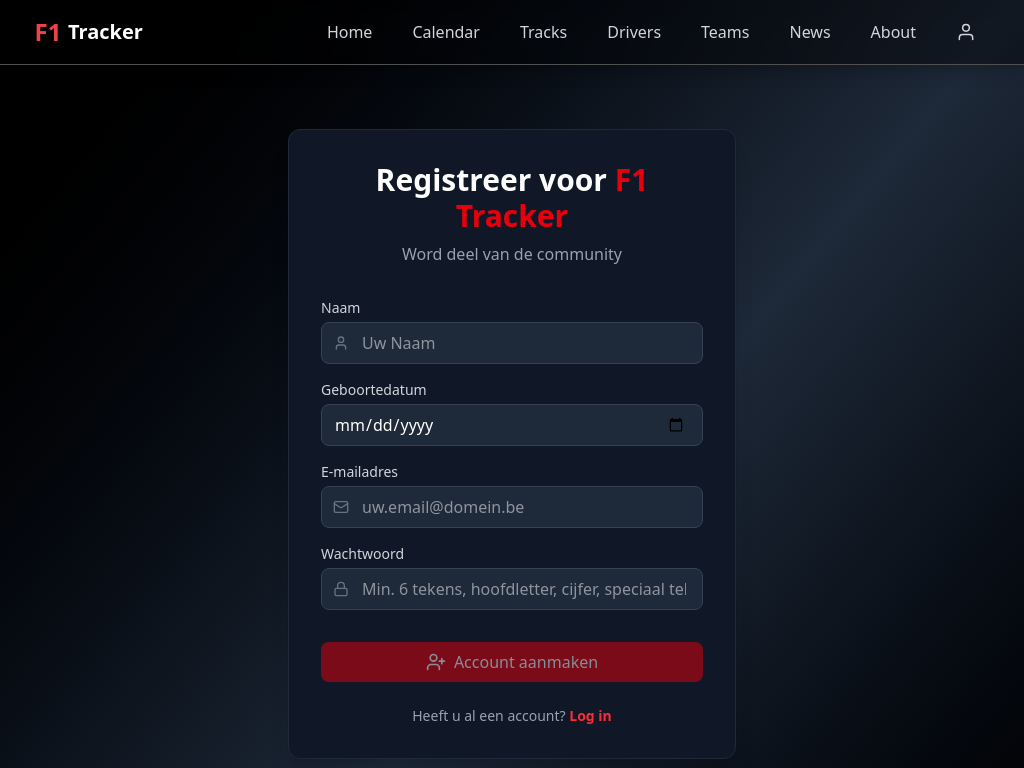
Test: Registratie Test › zou de verzendknop uitgeschakeld moeten houden bij een zwak wachtwoord
Type "Brihan" into the field with test id "user_input".
click(512, 343); type("Brihan")  # box top-left (321, 322), bottom-right (703, 364)
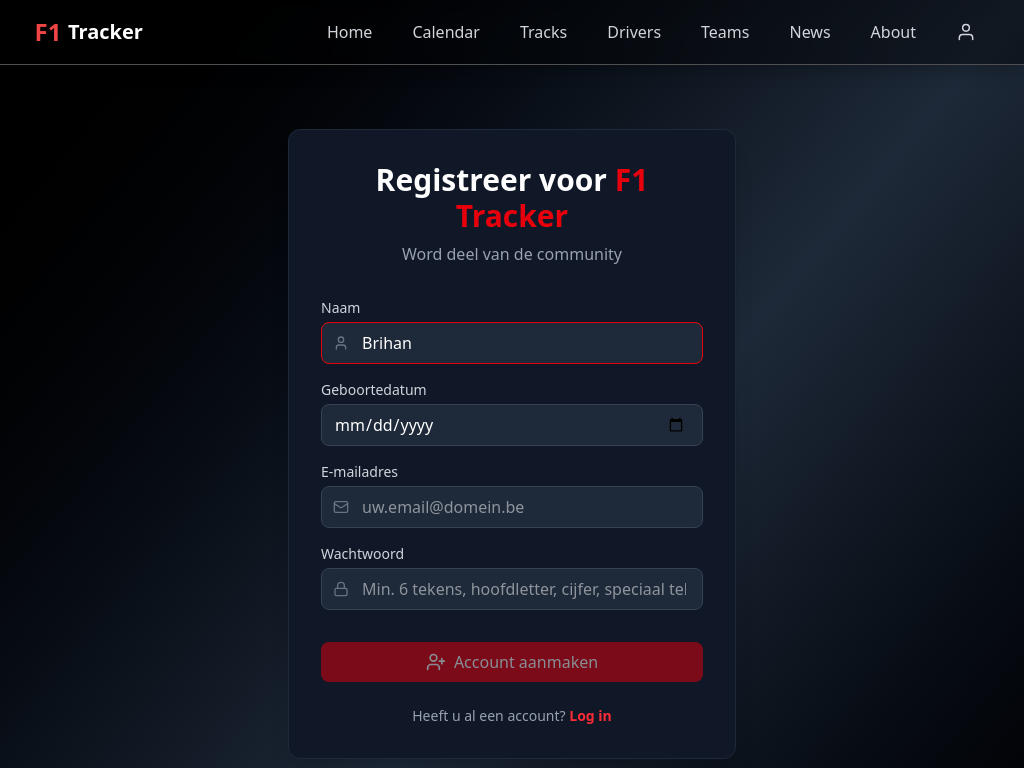
Type "pipo@f1site.com" into the field with test id "email_input".
click(512, 507); type("pipo@f1site.com")  # box top-left (321, 486), bottom-right (703, 528)
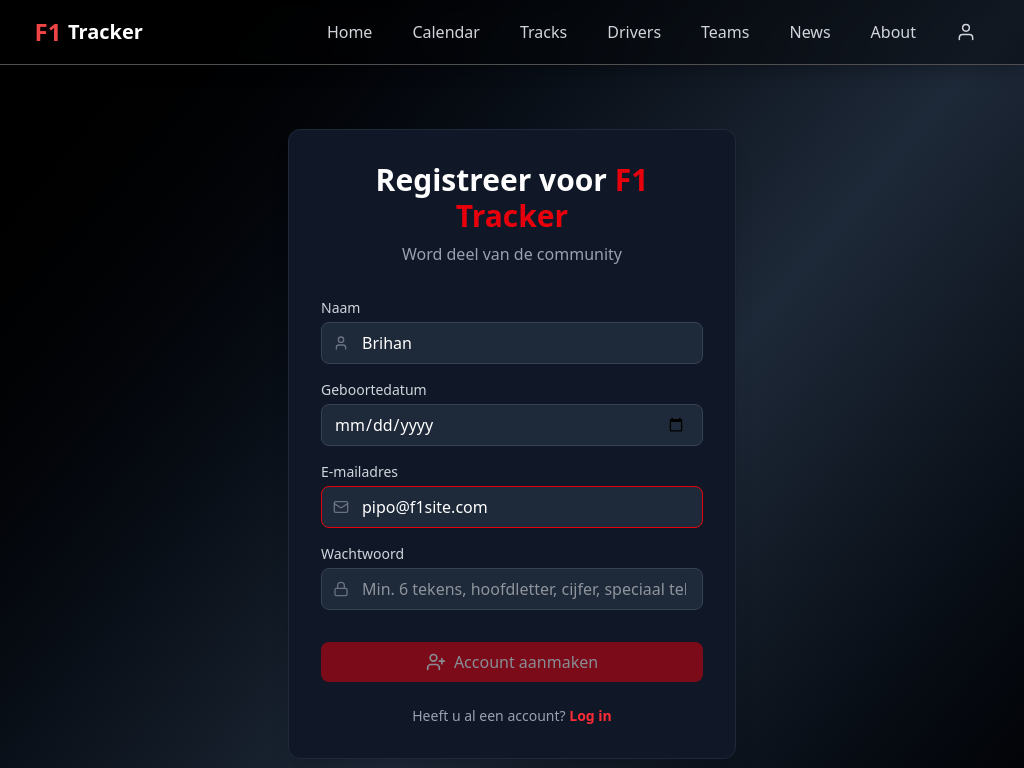
Note: We typen een wachtwoord zonder hoofdletter en speciaal teken
Type "pipo123" into the password field with test id "password_input".
click(512, 589); type("pipo123")  # box top-left (321, 568), bottom-right (703, 610)
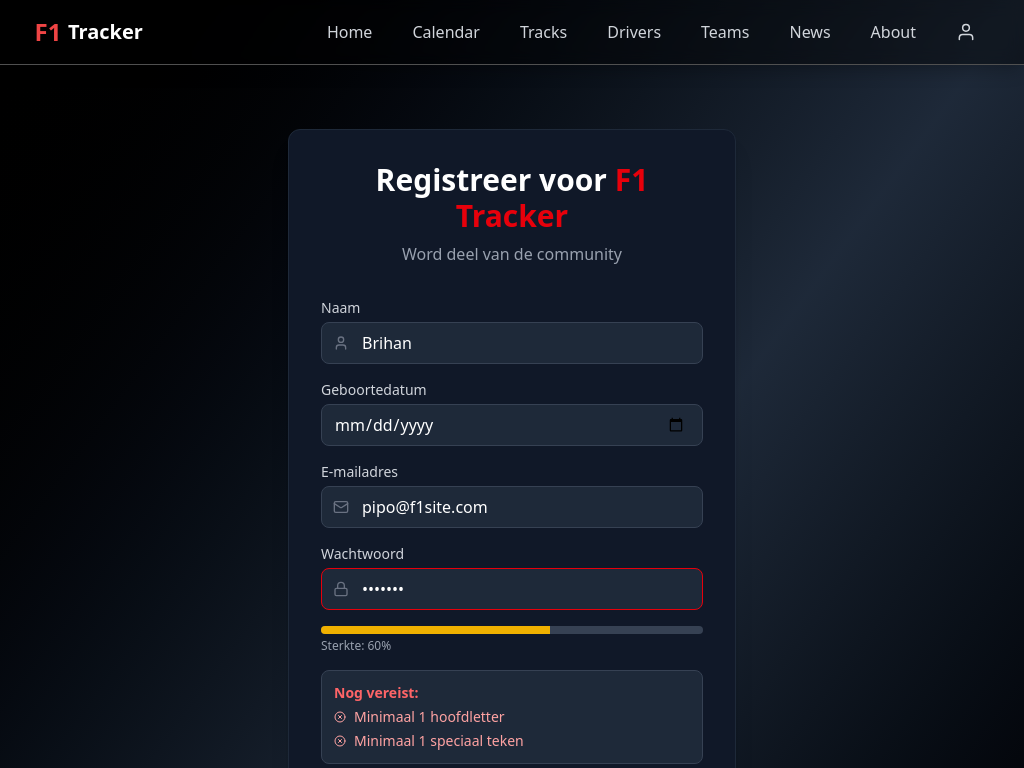
Expected: the text "Minimaal 1 hoofdletter" is shown, top-left (334, 707), bottom-right (505, 726)
Expected: the text "Minimaal 1 speciaal teken" is shown, top-left (334, 731), bottom-right (524, 750)
